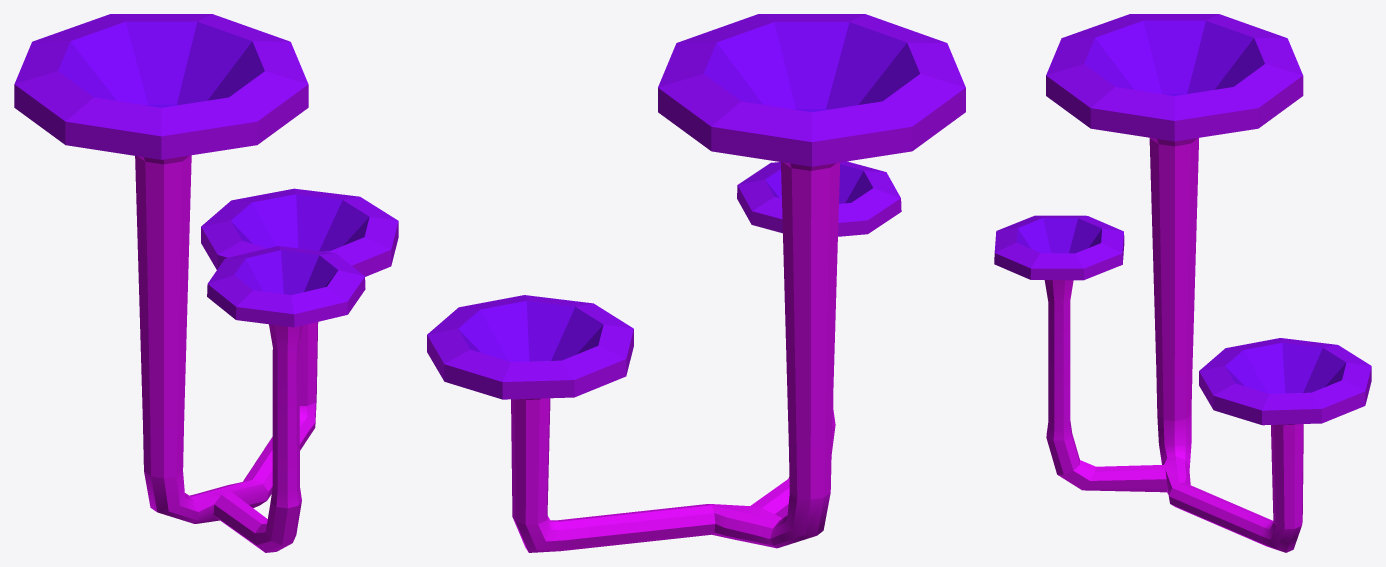
The model's file is plante_3_etape_2.fbx.
3 views of the same model, side by side, from view 1: azimuth 30°, elevation 25°; view 2: azimuth 150°, elevation 25°; view 3: azimuth 270°, elevation 25° (orthographic). The views are drawn at different scales.
Visible parts, largest first — view 1: stage_2; view 2: stage_2; view 3: stage_2.
Part boxes in pixels (x1=…): stage_2: x1=14, y1=14, x2=398, y2=552; stage_2: x1=427, y1=14, x2=965, y2=552; stage_2: x1=994, y1=14, x2=1371, y2=552.
Size of the model in its own units: 2.52 by 2.75 by 2.3.
